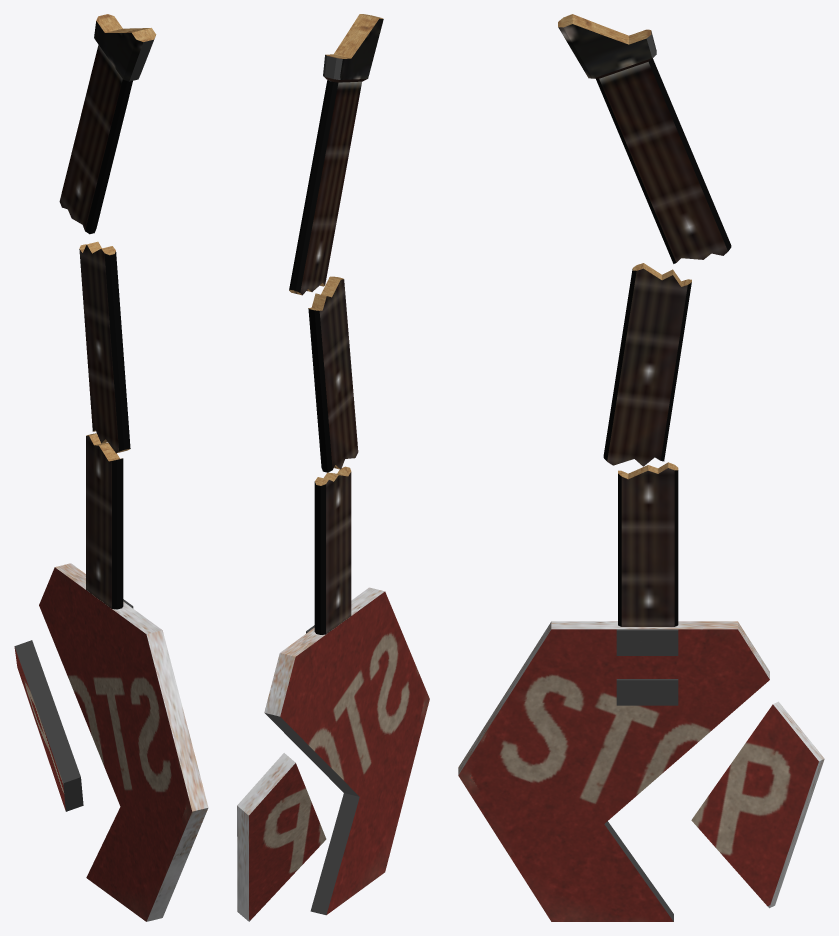
Rendered from guitarra_quebrada.fbx.
3 renders of one model, left to right at view 1: azimuth 30°, elevation 25°; view 2: azimuth 150°, elevation 25°; view 3: azimuth 270°, elevation 25°, orthographic. The views are drawn at different scales.
Parts seen in each view (by area): view 1: corpo_barra; view 2: corpo_barra; view 3: corpo_barra.
Boxes of the visible parts, box(x1,y1,x2,y2) form: corpo_barra: box(14, 14, 208, 921); corpo_barra: box(237, 14, 429, 921); corpo_barra: box(458, 14, 824, 921).
Size of the model in its own units: 16.71 by 218 by 80.82.
1 material, 1 textured.
